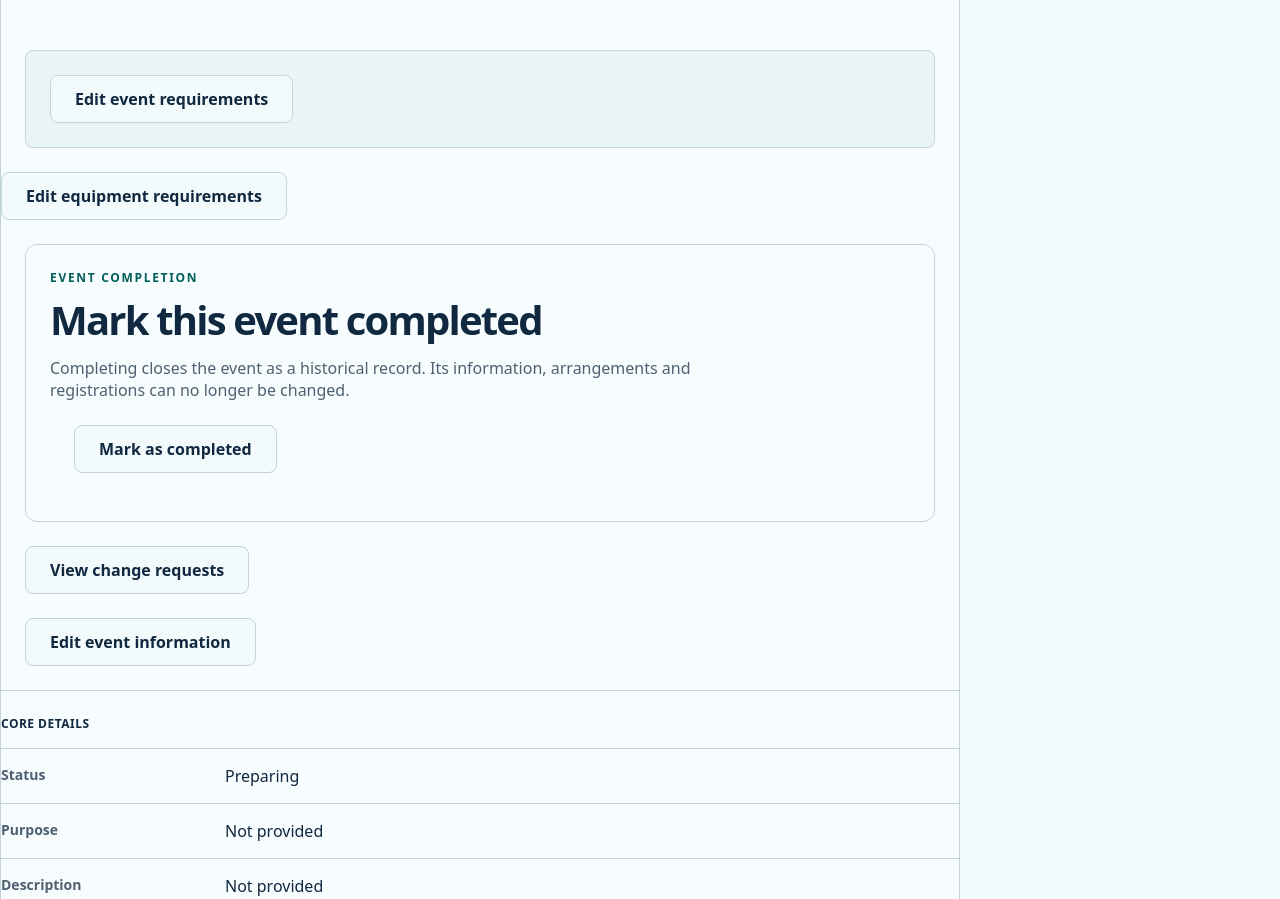
Test: [QA-SPL-105-070] completes in two steps and sends the trimmed note
(page scrolled)
Click the button "Mark as completed" at (175, 449), box [74,425,277,473]
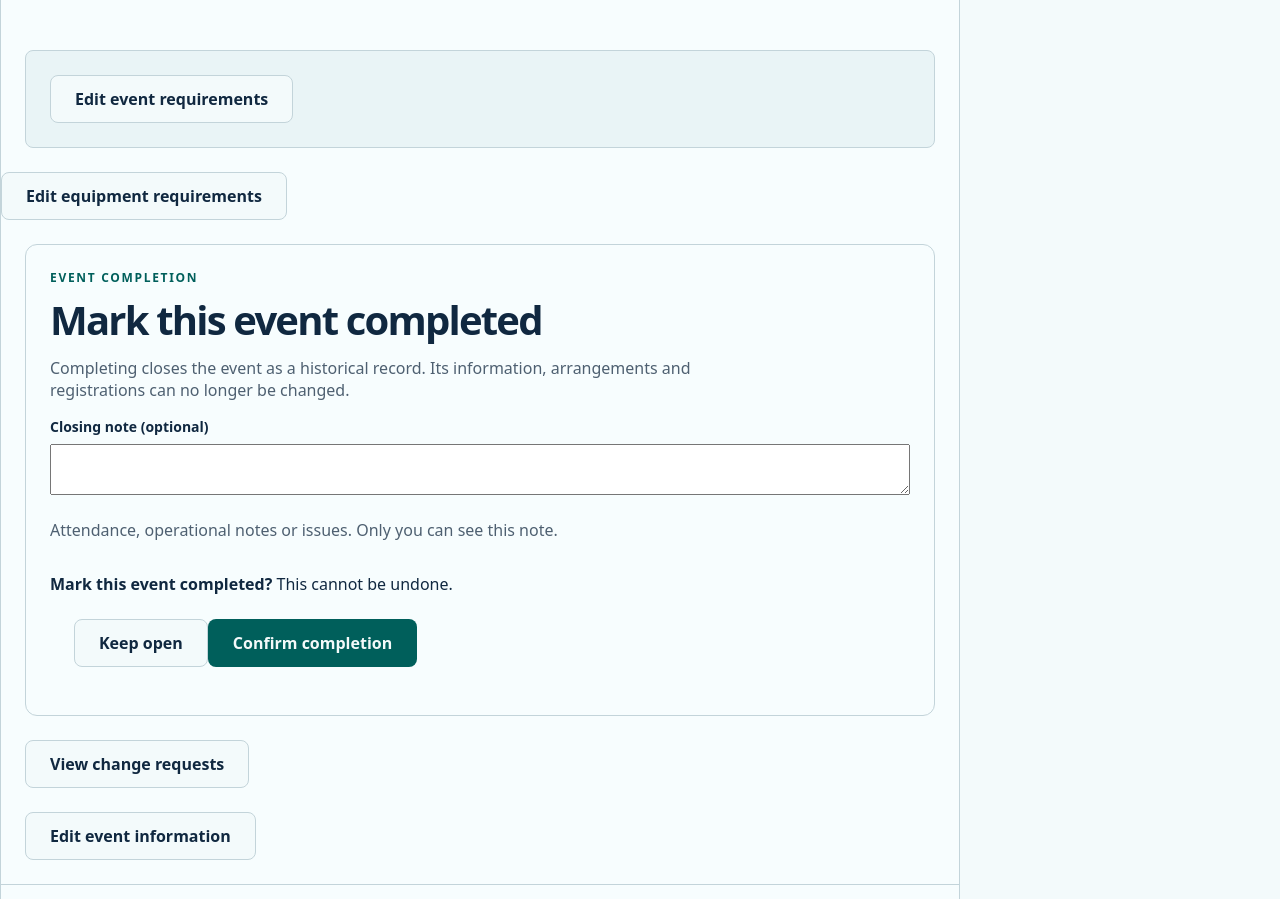
Type "  142 attended.  " into the text box labelled "Closing note (optional)" at (480, 470), box [50,444,910,495]
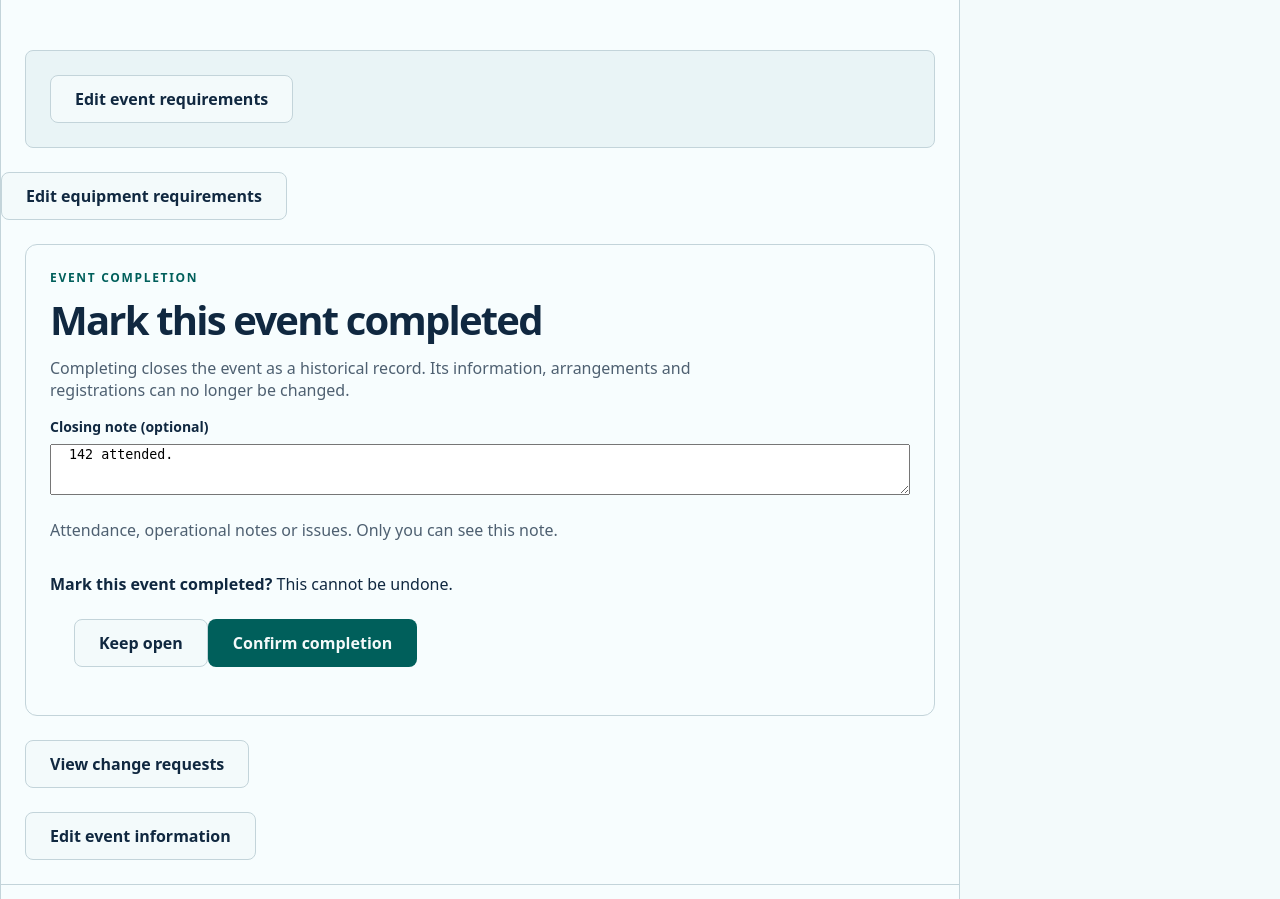
Click the button "Confirm completion" at (312, 643), box [208,619,417,667]
(page scrolled)
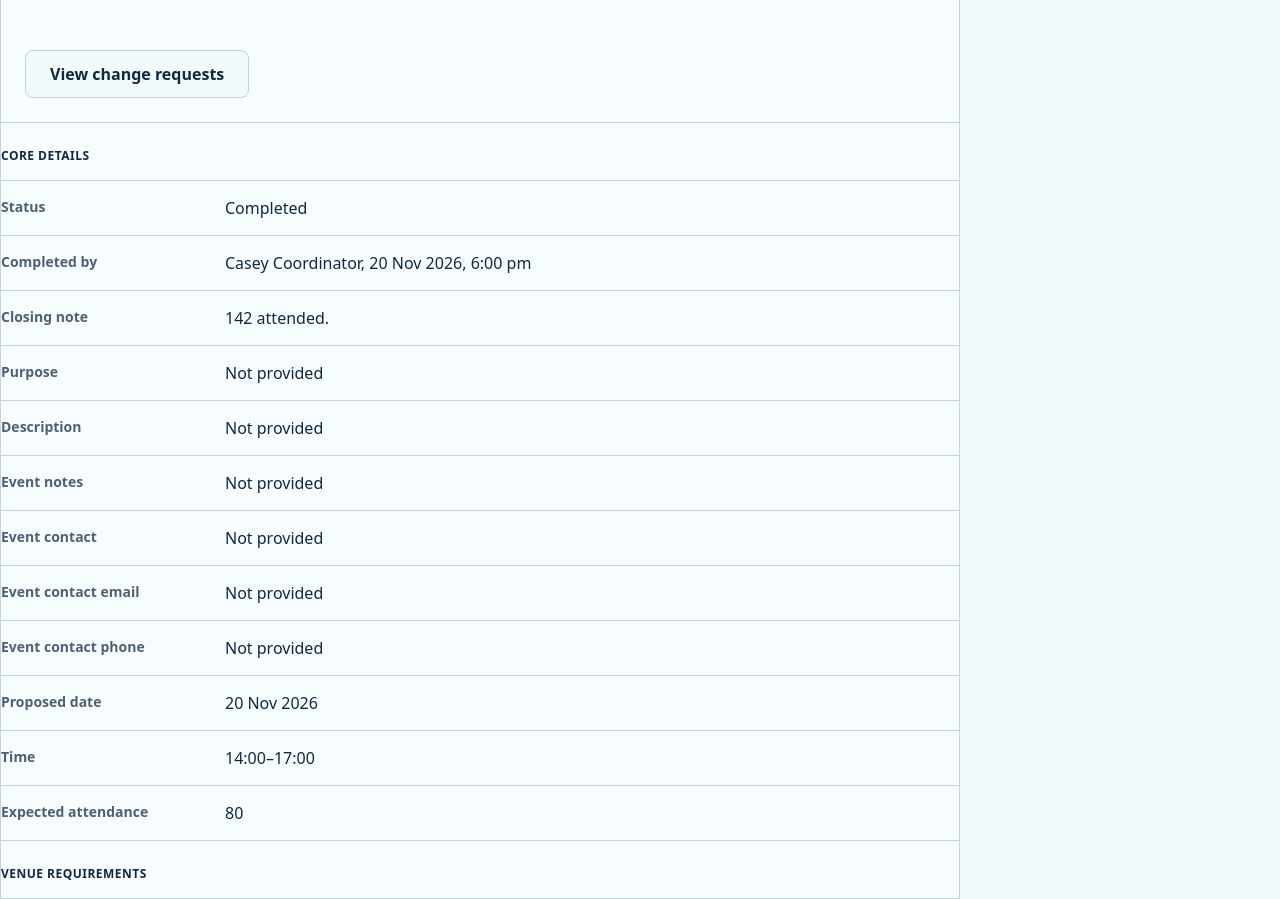
Check: the heading "Mark this event completed" is gone
Check: the text "Casey Coordinator, 20 Nov 2026, 6:00 pm" is shown, box [225,236,959,291]
Check: the text "142 attended." is shown, box [225,291,959,346]
